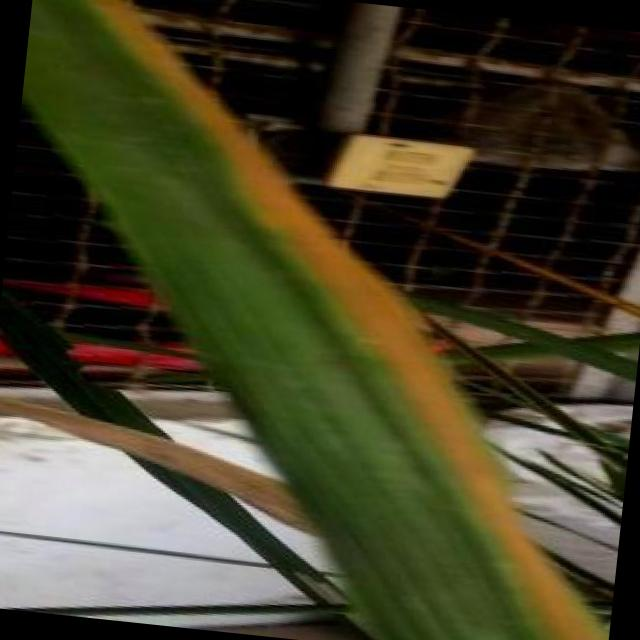Rice_Bacterial_Blight: (215, 312, 534, 640)
